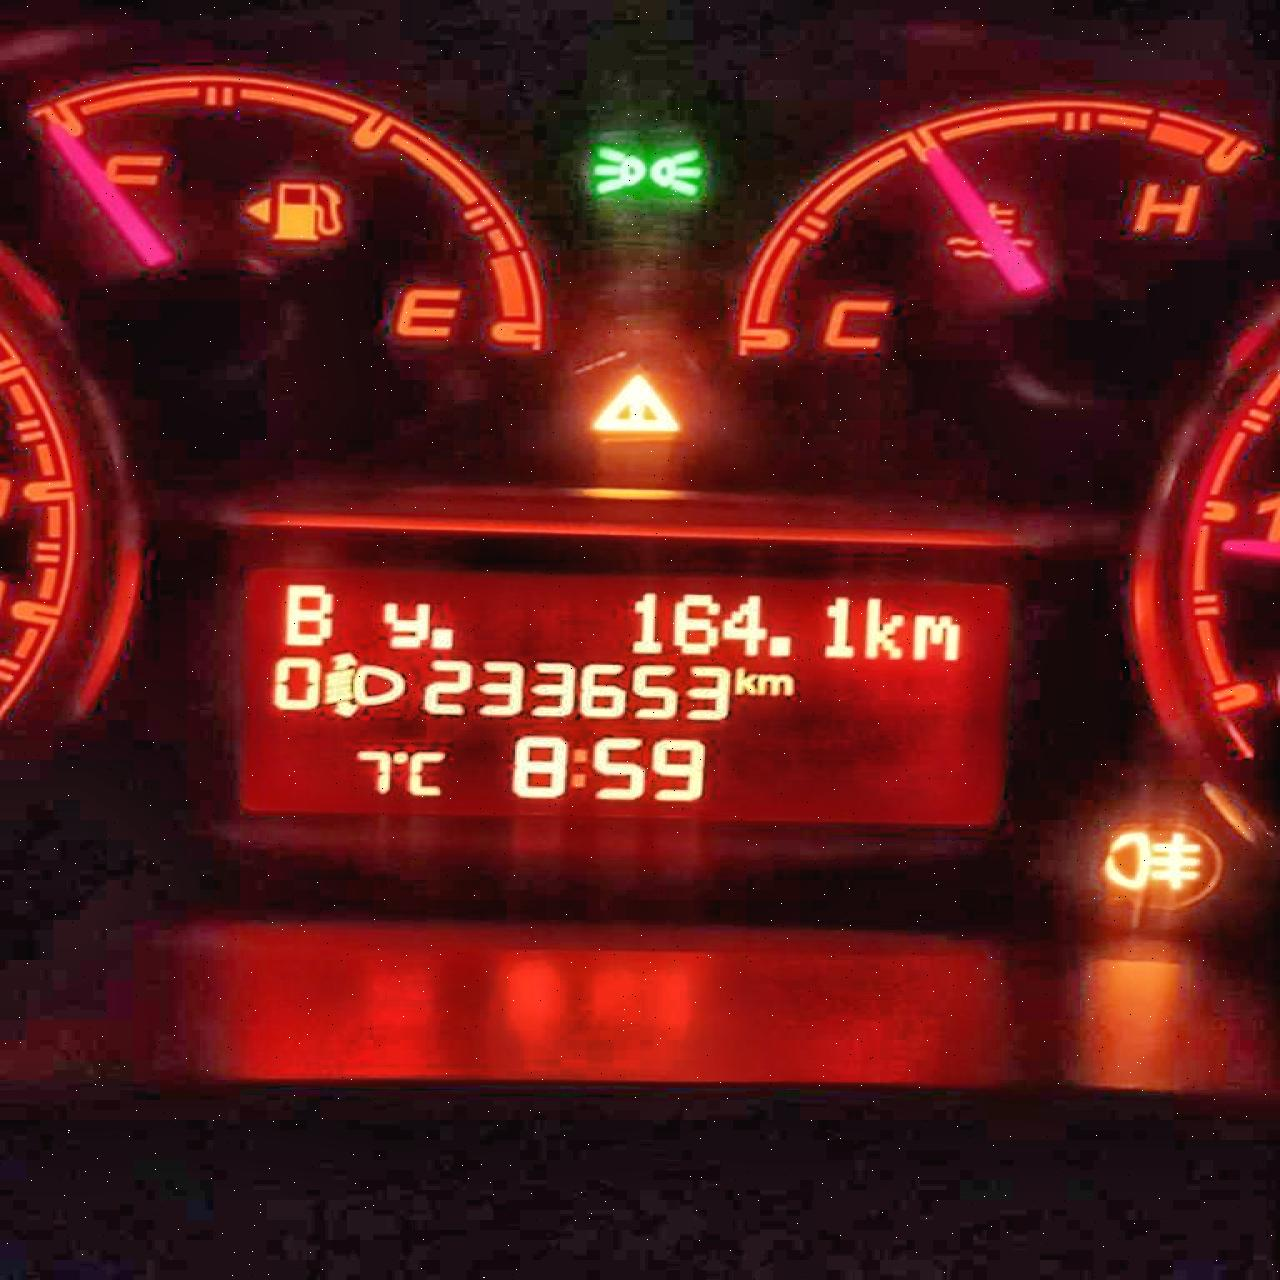-: (428, 625, 455, 651), (767, 633, 794, 659)
0: (268, 653, 320, 713)
1: (625, 586, 665, 655), (818, 591, 857, 661)
2: (418, 656, 470, 717)
3: (526, 659, 576, 719), (475, 656, 522, 719), (683, 662, 730, 722)
4: (719, 591, 764, 658)
5: (590, 733, 645, 802), (631, 660, 676, 721)
6: (670, 588, 720, 656), (578, 660, 627, 720)
7: (350, 747, 392, 797)
8: (509, 734, 567, 799)
9: (651, 735, 707, 803)
X: (280, 580, 336, 649), (863, 592, 905, 662), (908, 610, 960, 663), (379, 598, 429, 651), (409, 748, 443, 797), (758, 670, 794, 695), (570, 743, 588, 789), (731, 662, 756, 696)
odometer: (220, 558, 1020, 842)
